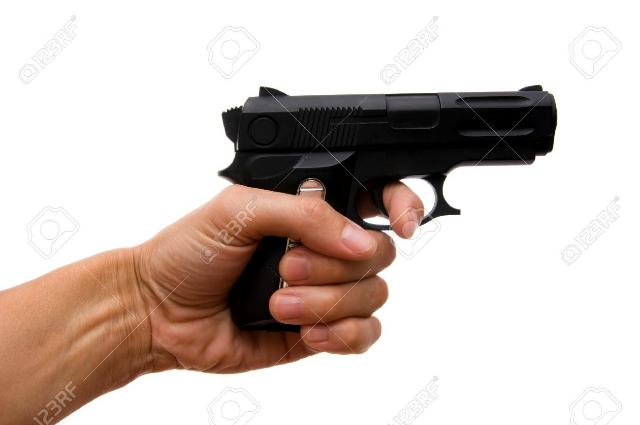pistol: (197, 74, 570, 394)
